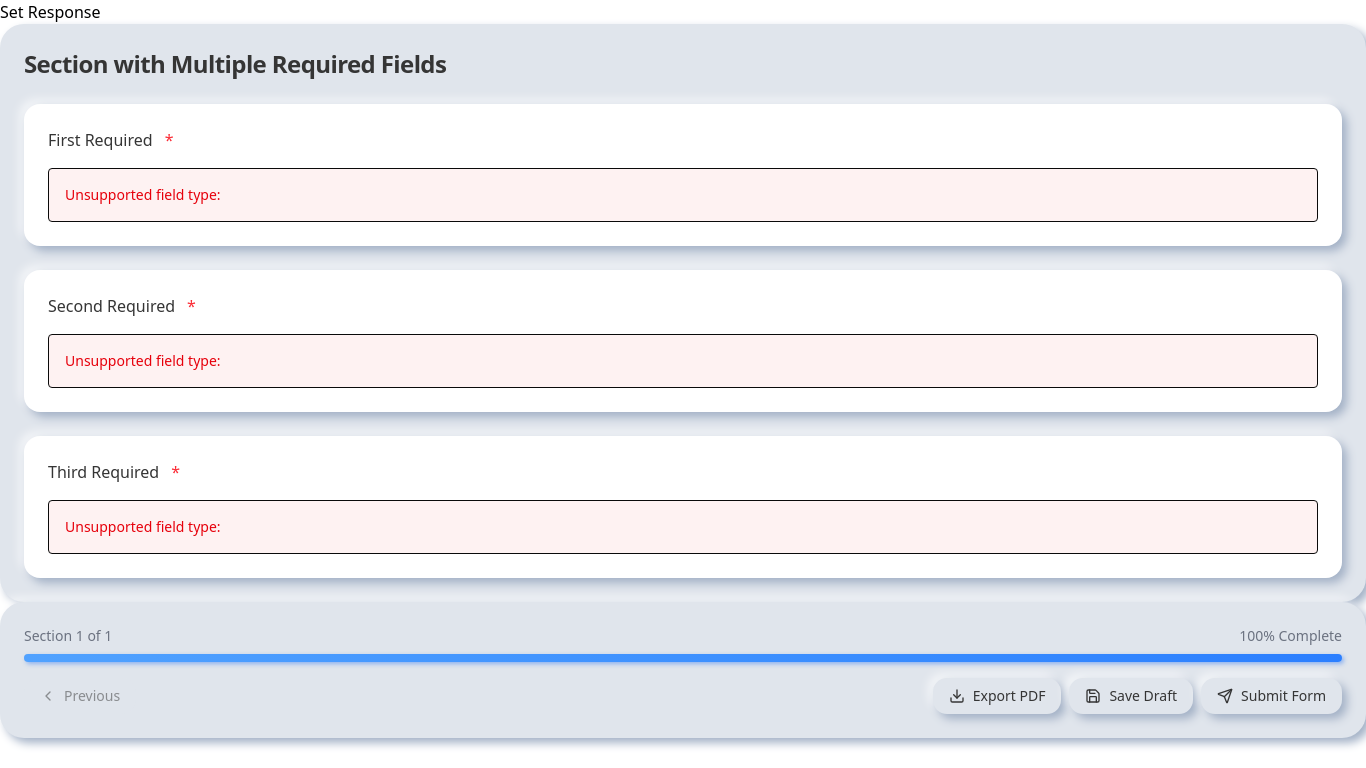
Scenario: DynamicFormNavigation › validation UI behavior › displays multiple validation errors when multiple required fields are empty
This screenshot has width=1366, height=768.
Click the button "Submit Form".
click(1272, 696)  # box [1201,678,1342,714]
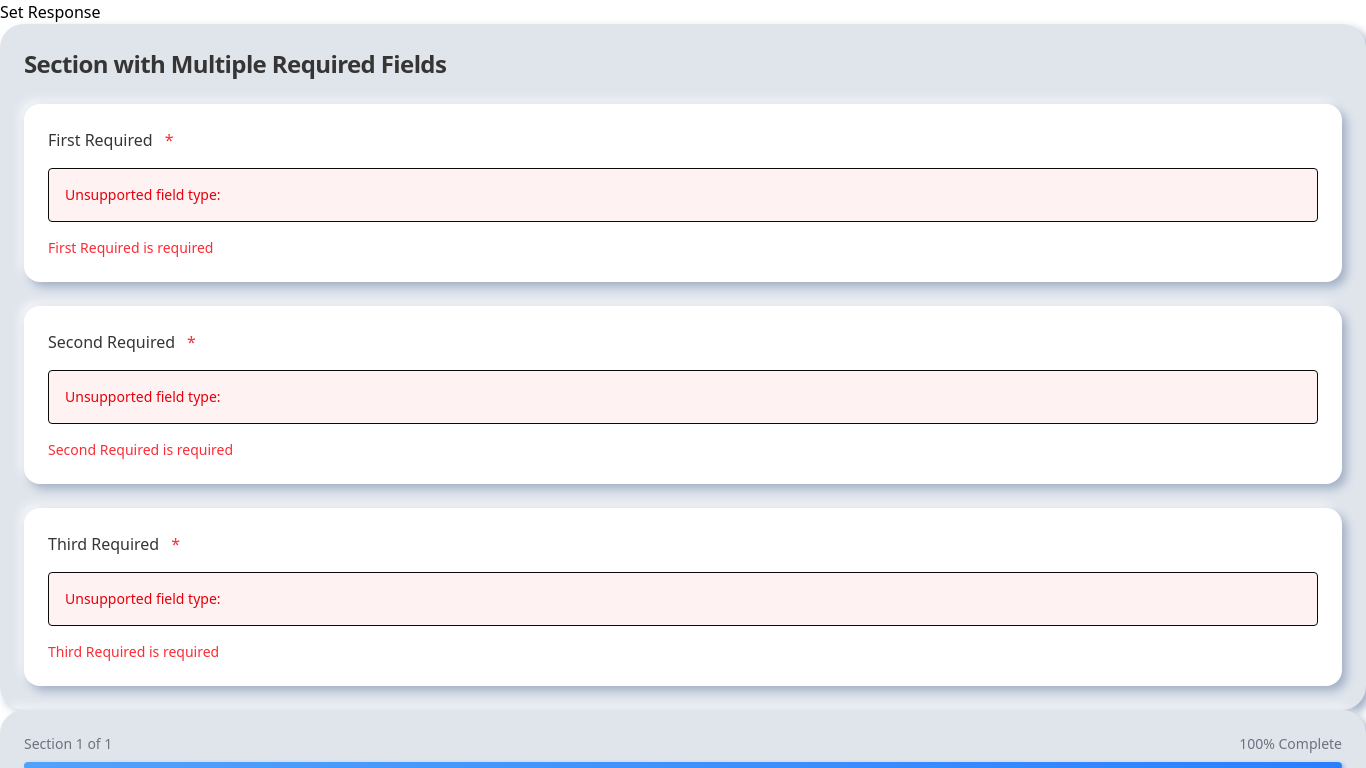
Check: the text "First Required is required" is shown, box [48,238,213,257]
Check: the text "Second Required is required" is shown, box [48,440,233,459]
Check: the text "Third Required is required" is shown, box [48,642,219,661]
